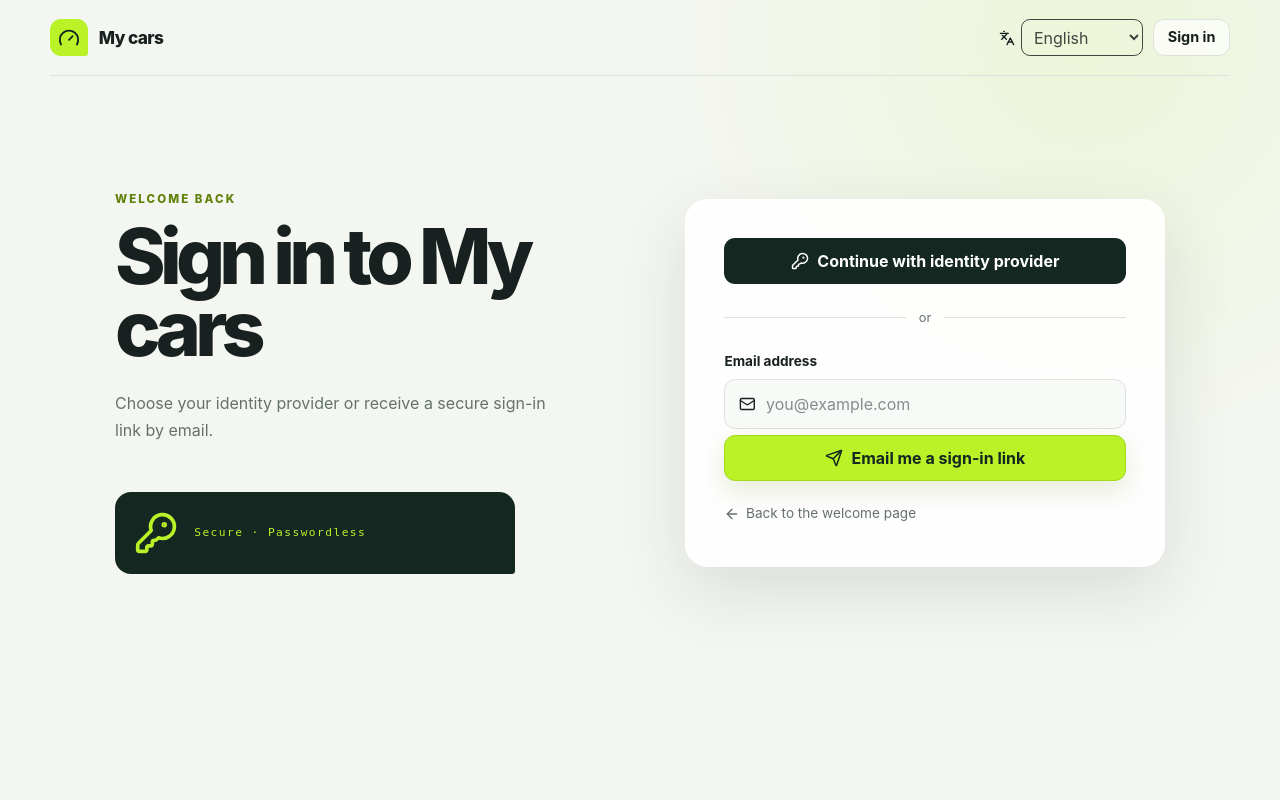
Test case: public routes › shows localized validation and exposes only the backend OIDC URL
This screenshot has width=1280, height=800.
Type "invalid" into the field labelled "Email address" at (939, 404), box [766,380,1111,428]
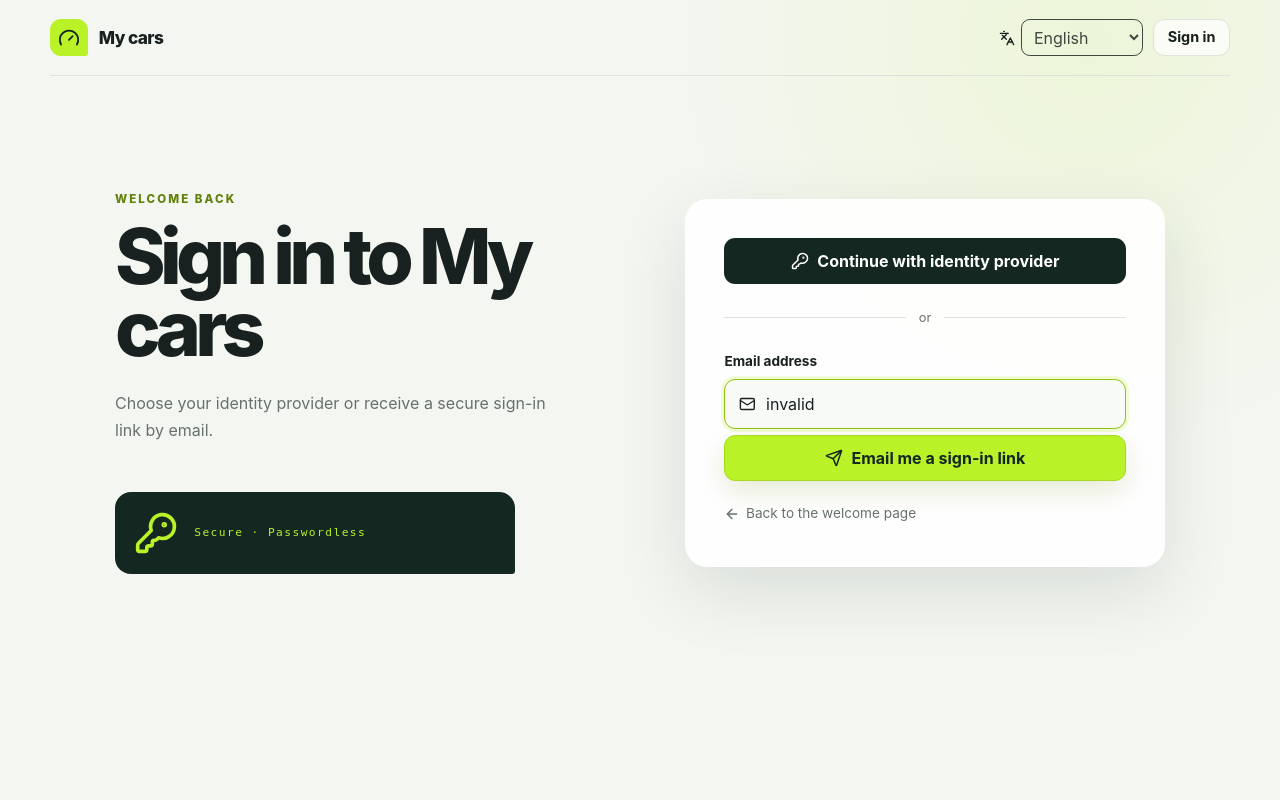
Click the button "Email me a sign-in link" at (925, 458), box [724,436,1126,481]
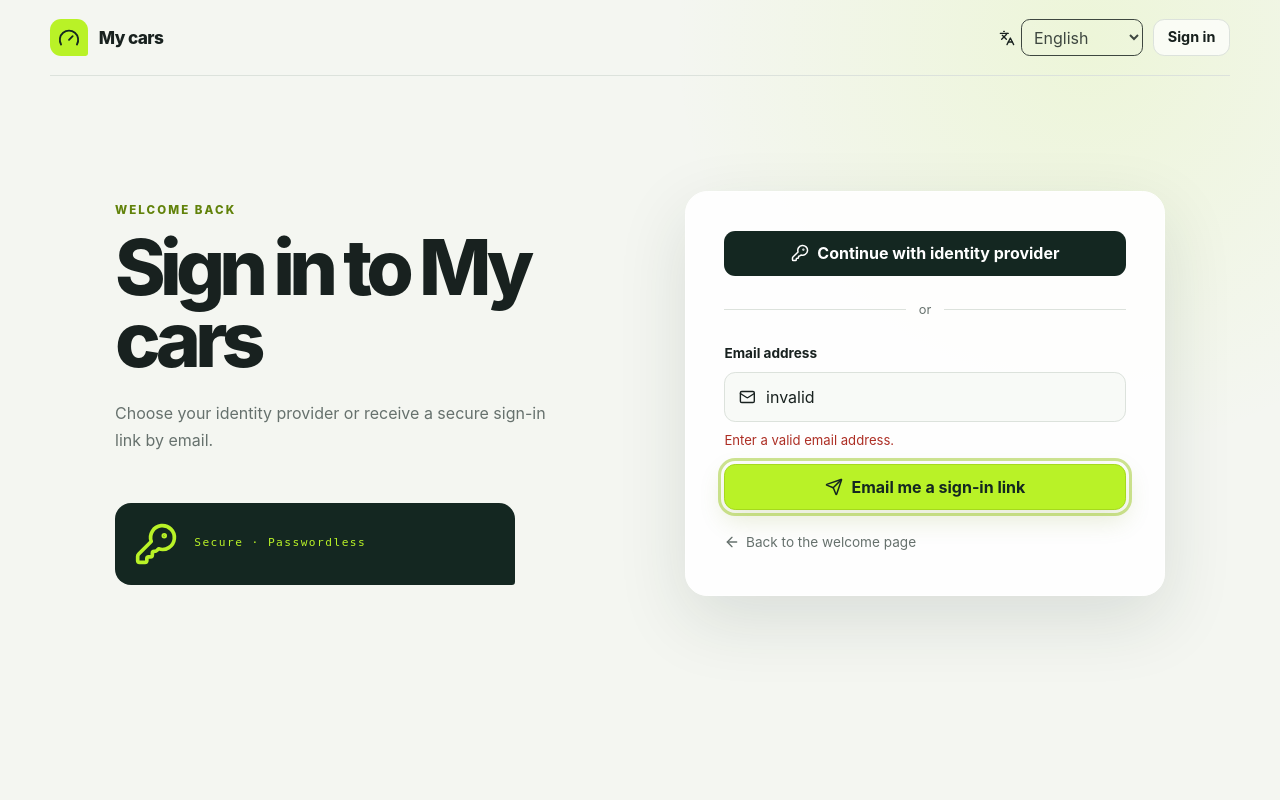
Result: the message shows "Enter a valid email" at [724,432,894,448]
